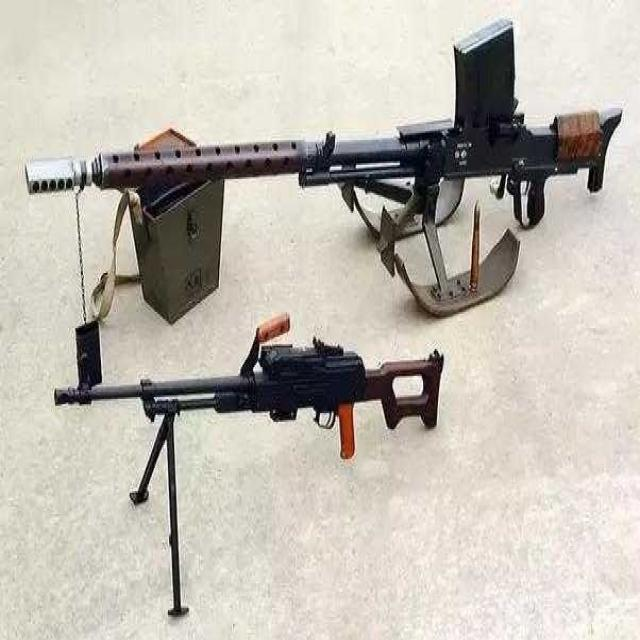weapon: (16, 24, 626, 264), (59, 302, 450, 550)
